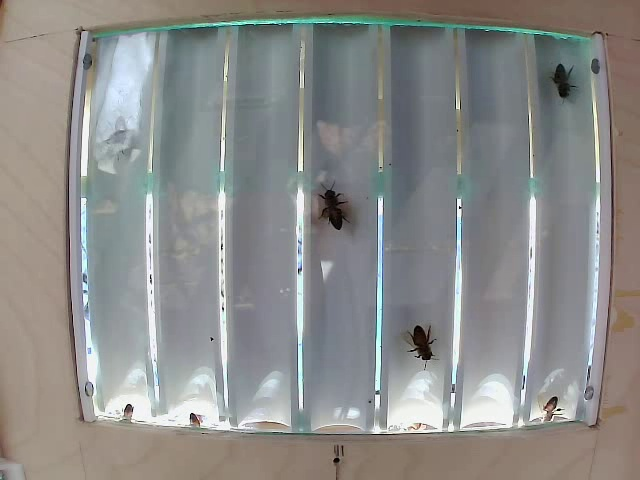bee: (310, 171, 361, 238), (402, 315, 444, 362), (545, 58, 576, 111)
